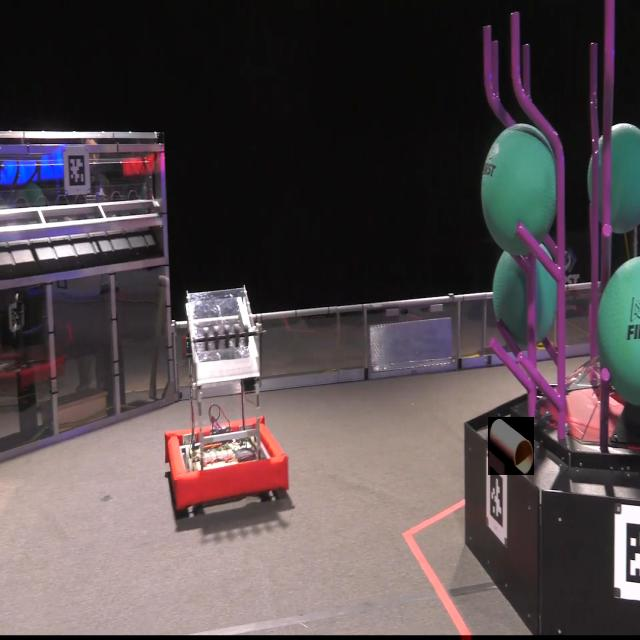Coral: (488, 417, 534, 475)
